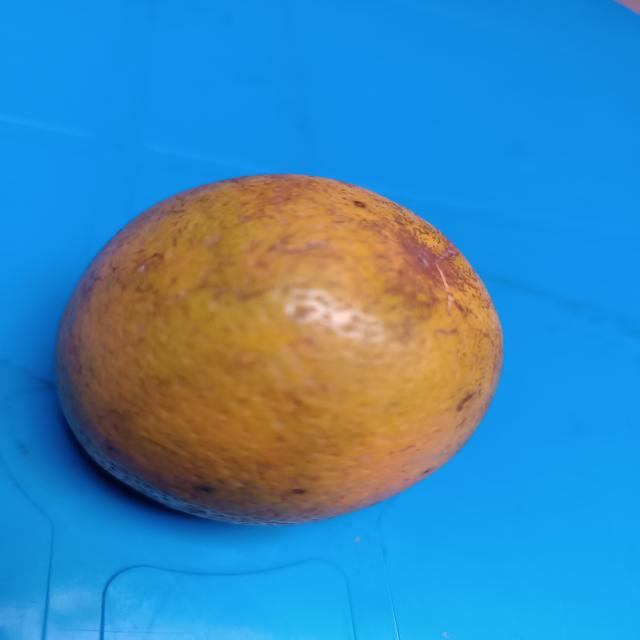Ripe orange: (47, 165, 514, 533)
